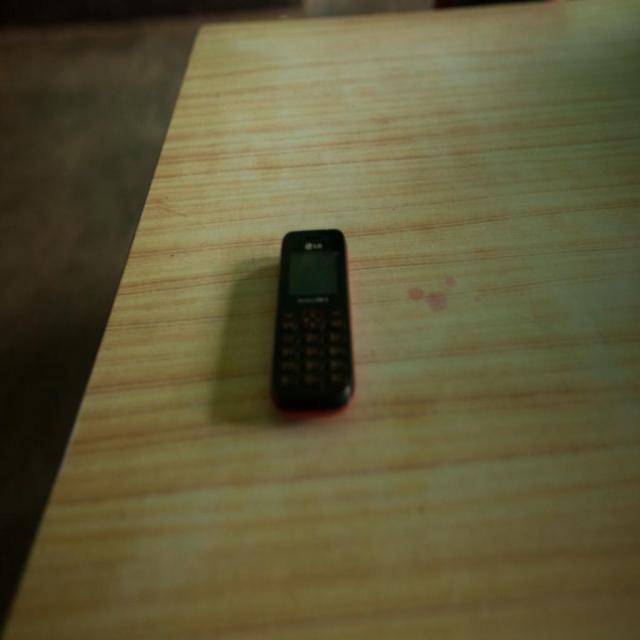Phone: (272, 218, 354, 410)
